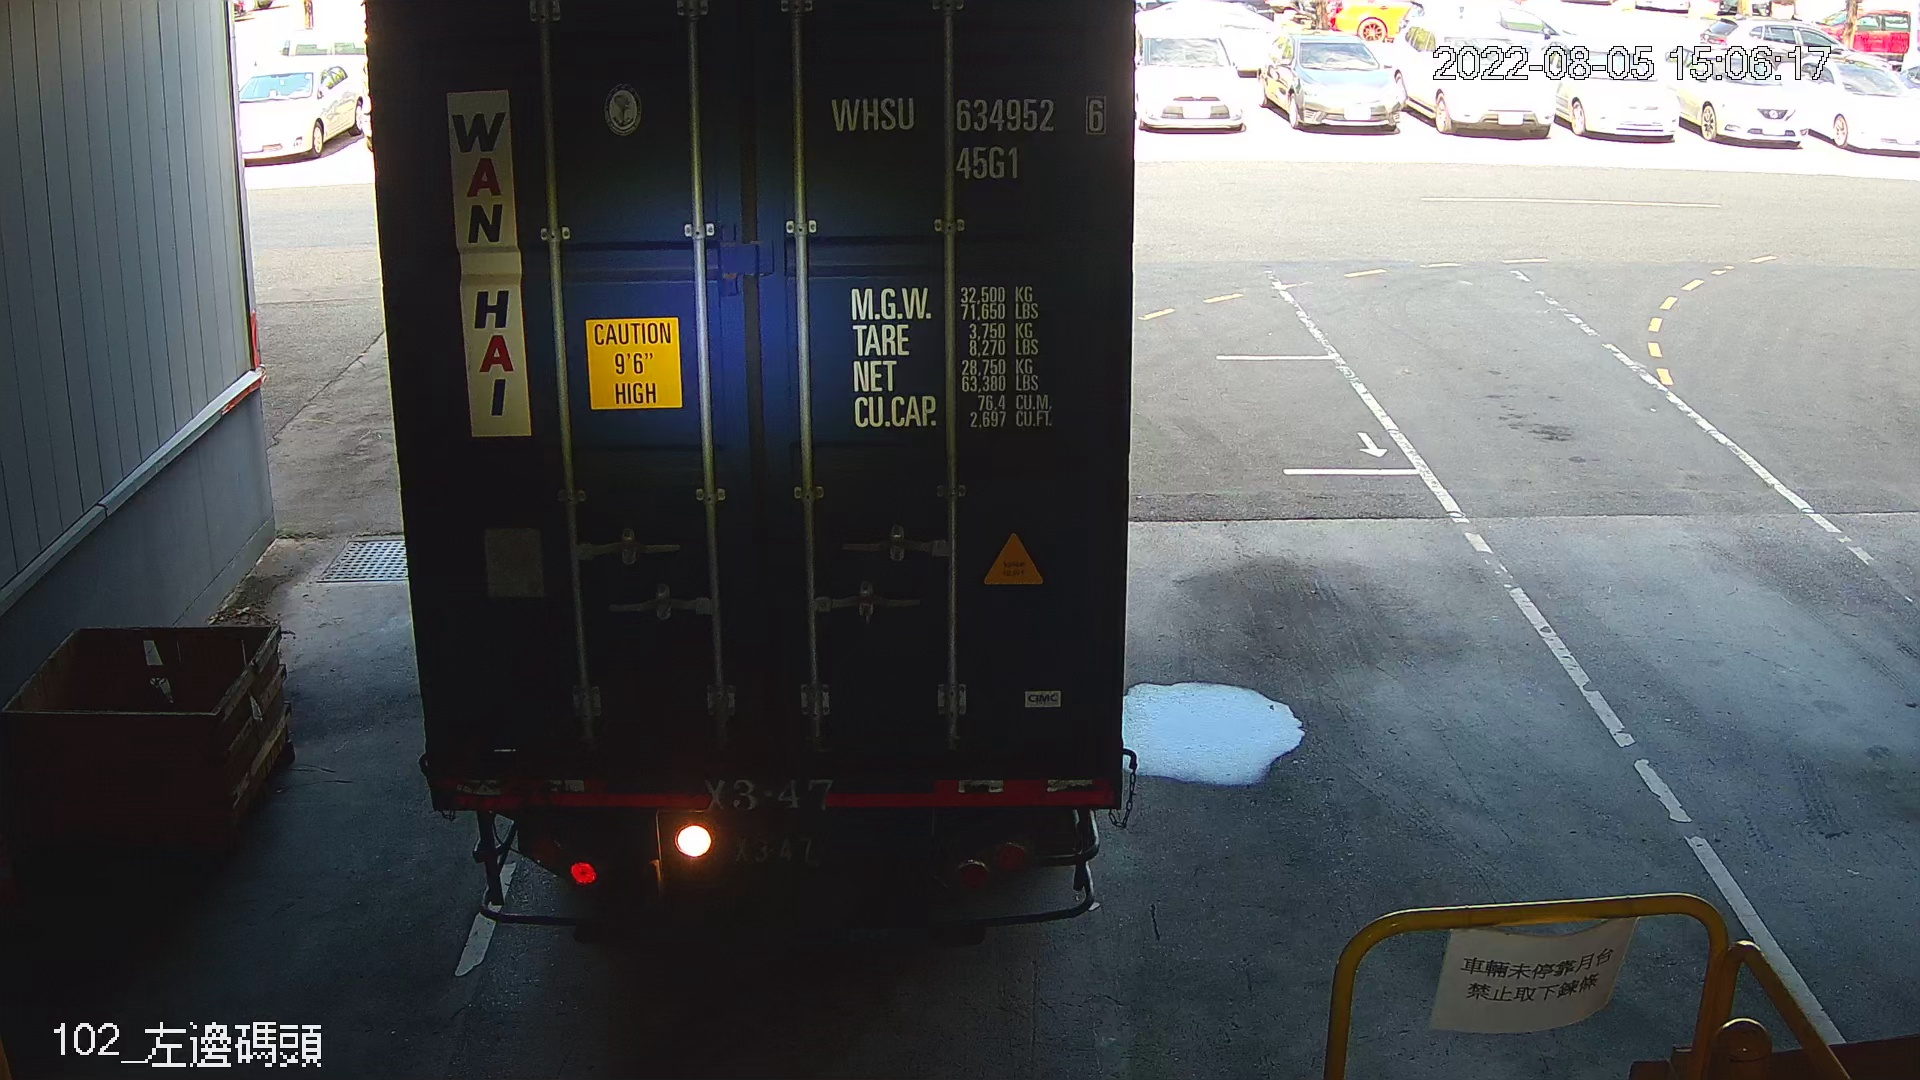container: (816, 76, 1117, 191)
